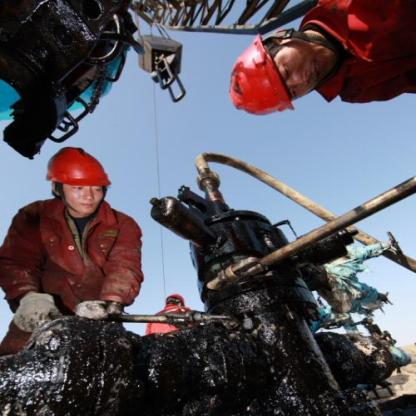helmet: (214, 27, 351, 116), (44, 146, 115, 214), (163, 290, 190, 310)
